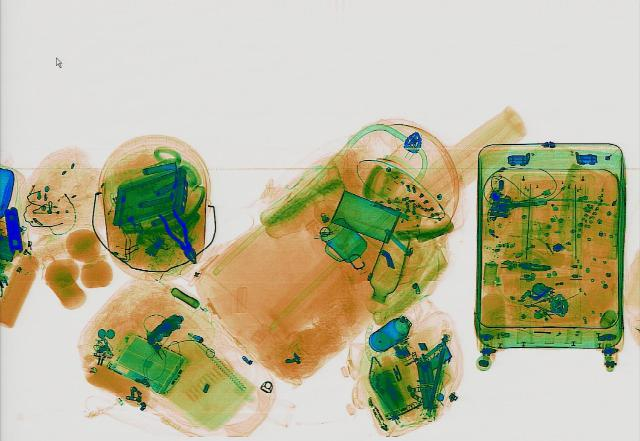Pliers: (154, 208, 206, 265)
